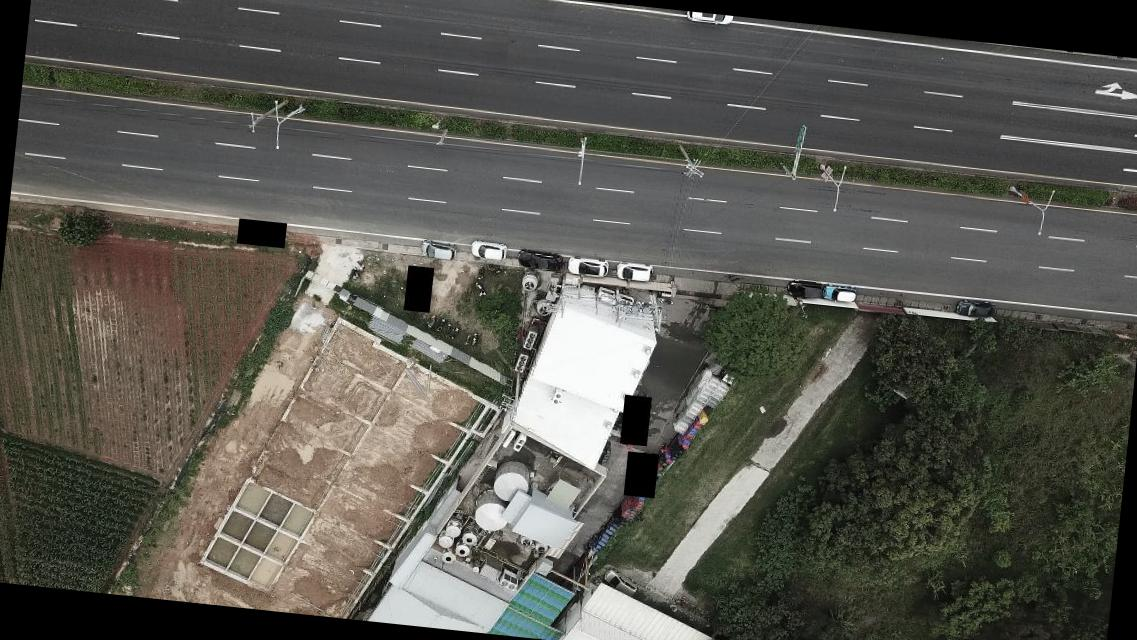vehicle: (514, 247, 563, 272), (564, 254, 610, 280), (611, 260, 656, 284), (954, 296, 998, 320), (466, 239, 508, 263), (417, 239, 458, 261), (684, 10, 734, 28), (785, 280, 825, 300), (823, 284, 858, 306)
